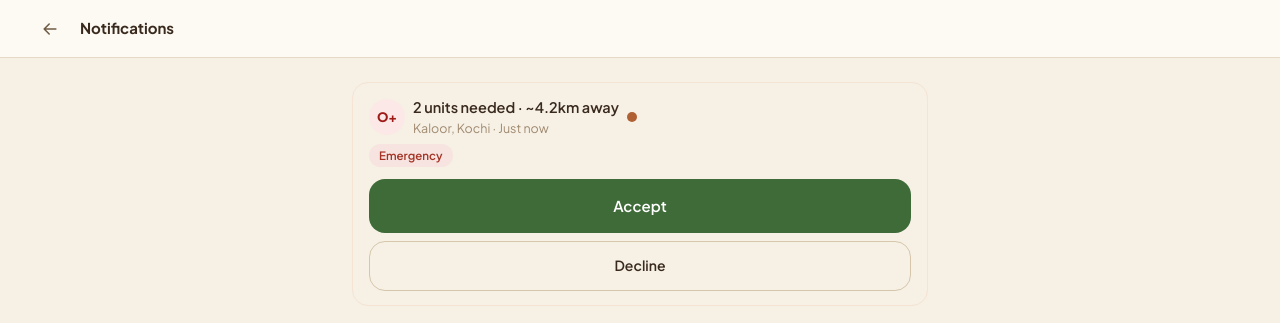
Test: NotificationsPage › marks a notification read when clicked
The image size is (1280, 323).
Click the button "2 units needed".
click(387, 117)  # box [369,97,911,167]
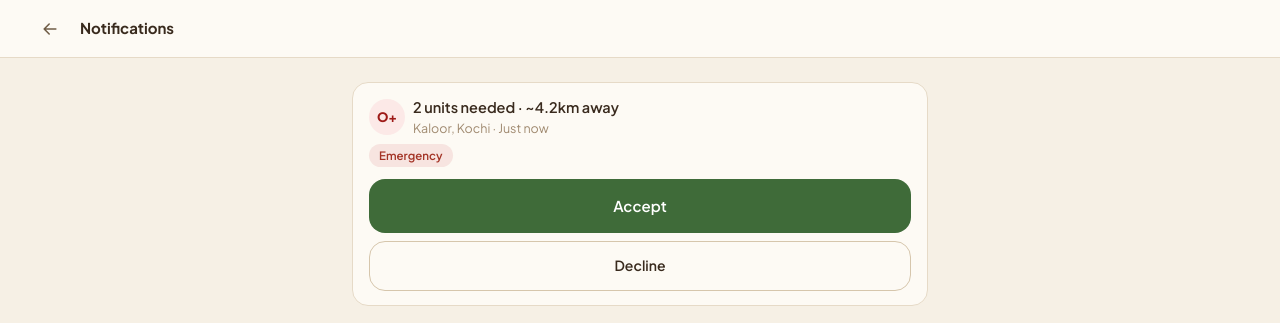
Check: the field labelled "Unread" is gone
